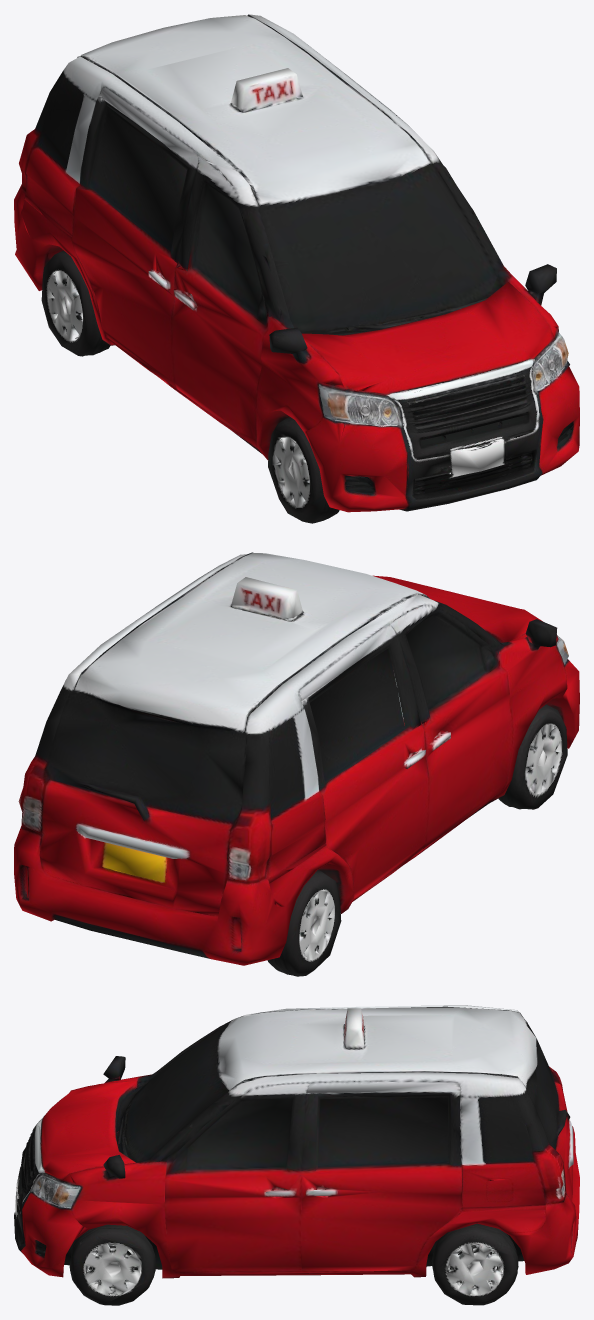
The model's file is v02-modern-taxi-6k.glb.
The picture shows the model from 3 angles, top to bottom: view 1: azimuth 30°, elevation 25°; view 2: azimuth 150°, elevation 25°; view 3: azimuth 270°, elevation 25°; orthographic projection. The views are drawn at different scales.
Visible parts, largest first — view 1: tripo_node_3c83244a-6398-4038-98ce-5f0577aac547; view 2: tripo_node_3c83244a-6398-4038-98ce-5f0577aac547; view 3: tripo_node_3c83244a-6398-4038-98ce-5f0577aac547.
Boxes of the visible parts, bbox=[...] form: tripo_node_3c83244a-6398-4038-98ce-5f0577aac547: bbox=[14, 14, 579, 523]; tripo_node_3c83244a-6398-4038-98ce-5f0577aac547: bbox=[14, 552, 579, 976]; tripo_node_3c83244a-6398-4038-98ce-5f0577aac547: bbox=[14, 1005, 579, 1305].
Bounding box in the file's own units: 0.4541 × 0.4626 × 0.9802.
1 material, 1 textured.
